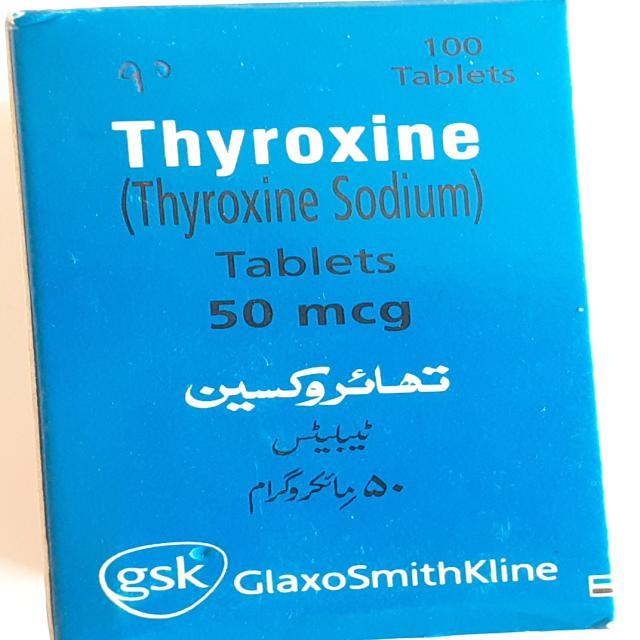drug-name: (106, 110, 489, 181)
